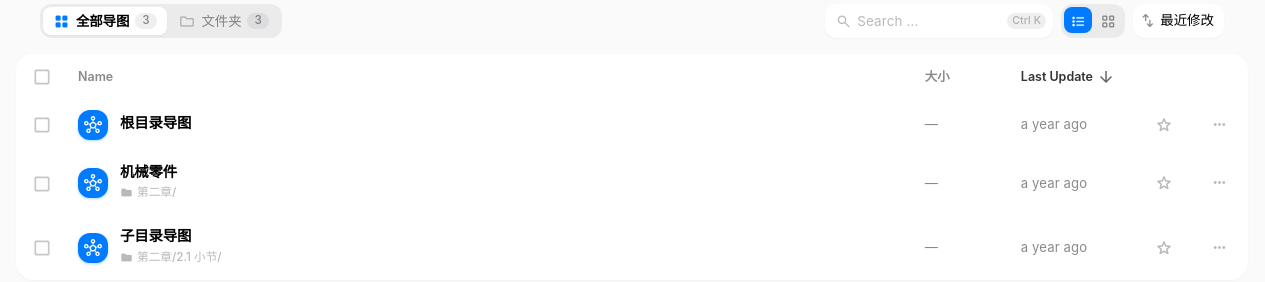
Main workspace folder browser & segmented switcher › switches between 全部导图 and 文件夹 tabs and drills down with breadcrumbs
Expected: the link "根目录导图" is shown, [120,113,191,134]
Expected: the link "机械零件" is shown, [120,162,177,182]
Click the tab "文件夹 3" at (224, 21), box [168,8,279,34]
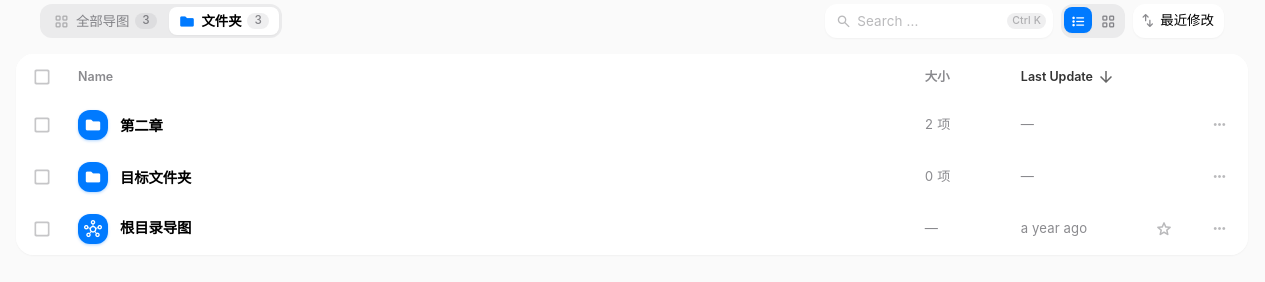
Expected: the link "根目录导图" is shown, [120,218,191,239]
Now the row with test id "folder-row-1" is shown
Now the link "机械零件" is gone
Click the row with test id "folder-row-1" at (93, 125), box [16,99,1248,151]
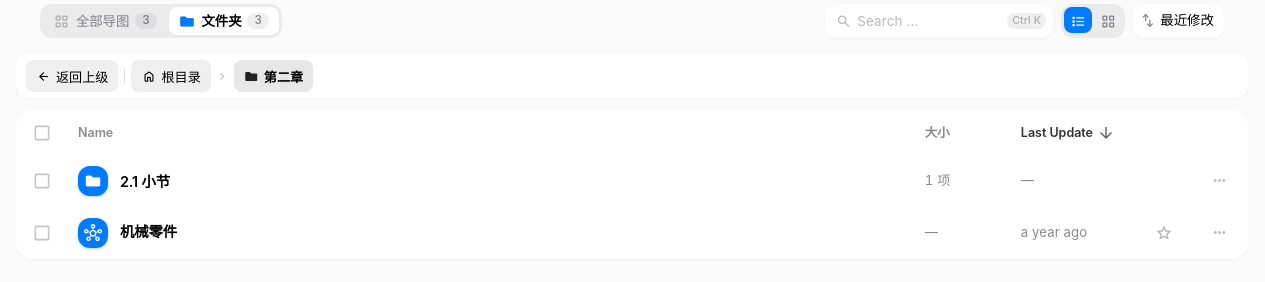
Now the row with test id "folder-row-2" is shown, box [16,155,1248,207]
Now the link "机械零件" is shown, box [120,222,177,243]
Now the link "根目录导图" is gone
// Return to root via breadcrumb.
Click the button "根目录" at (171, 76), box [132,60,211,92]
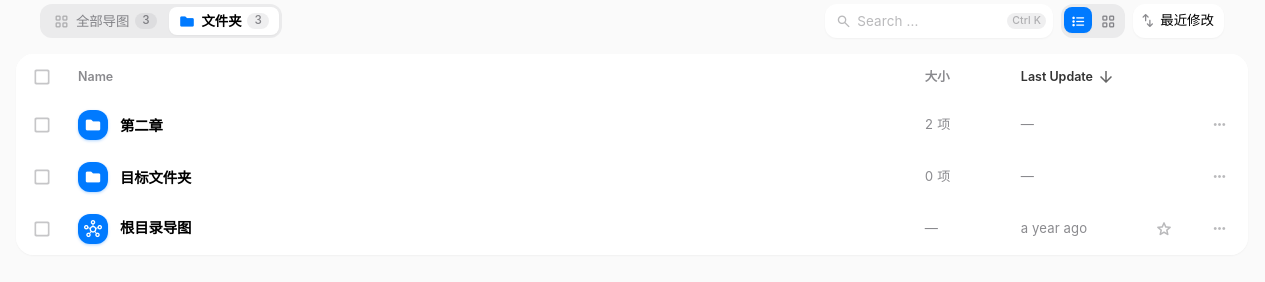
Now the row with test id "folder-row-1" is shown, box [16,99,1248,151]
Now the link "根目录导图" is shown, box [120,218,191,239]
